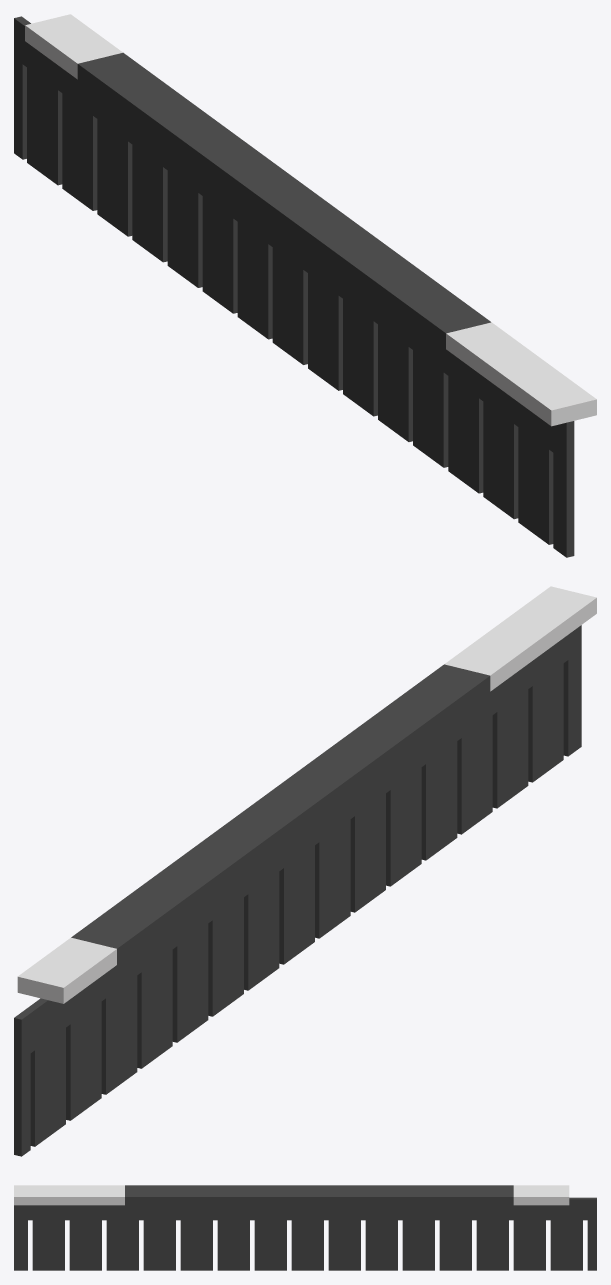
Rendered from wall-1.obj.
The picture shows the model from 3 angles, top to bottom: view 1: azimuth 30°, elevation 25°; view 2: azimuth 150°, elevation 25°; view 3: azimuth 270°, elevation 25°; orthographic projection. The views are drawn at different scales.
Size of the model in its own units: 6 by 19 by 126.
Materials: 1 (1 with a texture image).
